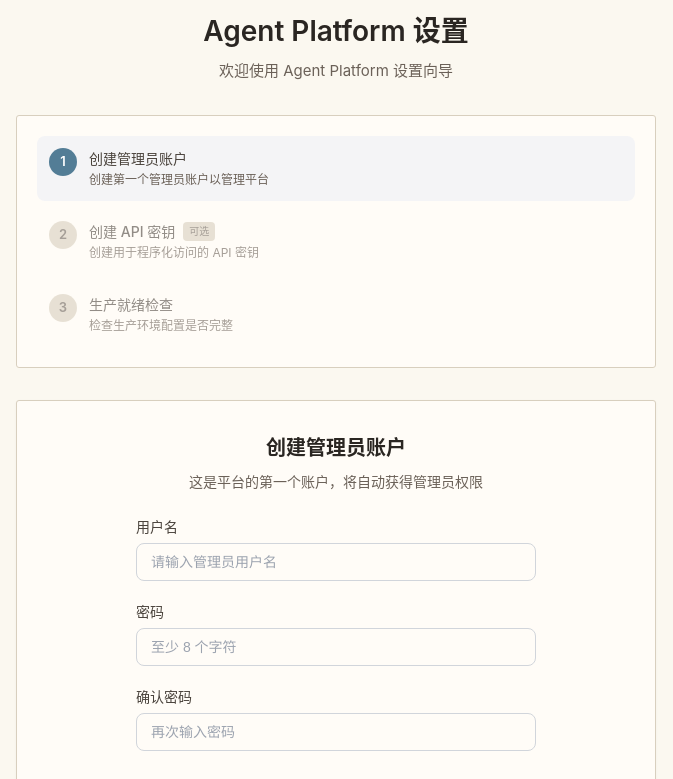
Scenario: ProductionSetupChecklist › setup flow continues after admin creation (setupInProgress prevents unmount)
Type "admin" into the field with test id "admin-username-input" at (336,562), box left=136, top=542, right=536, bottom=580
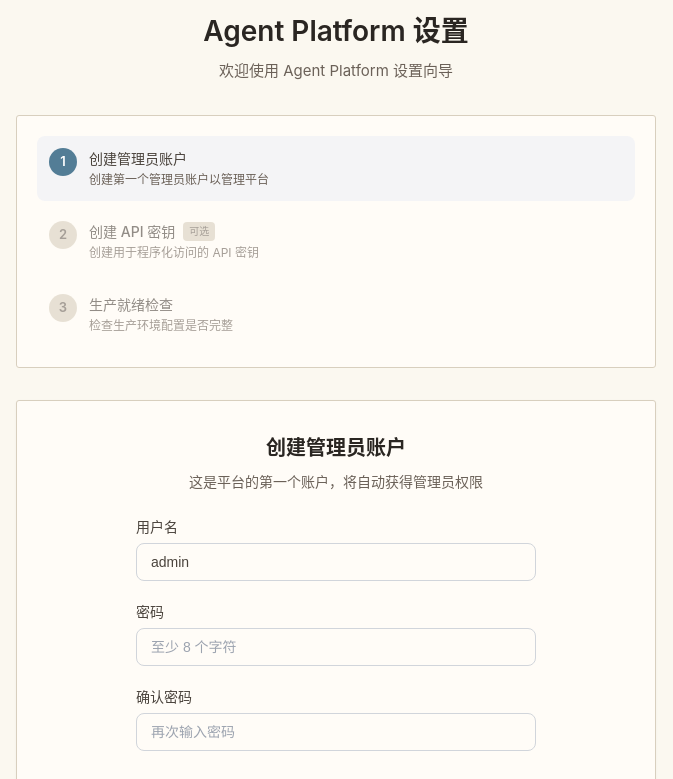
Type "password123" into the password field with test id "admin-password-input" at (336,646), box left=136, top=628, right=536, bottom=666
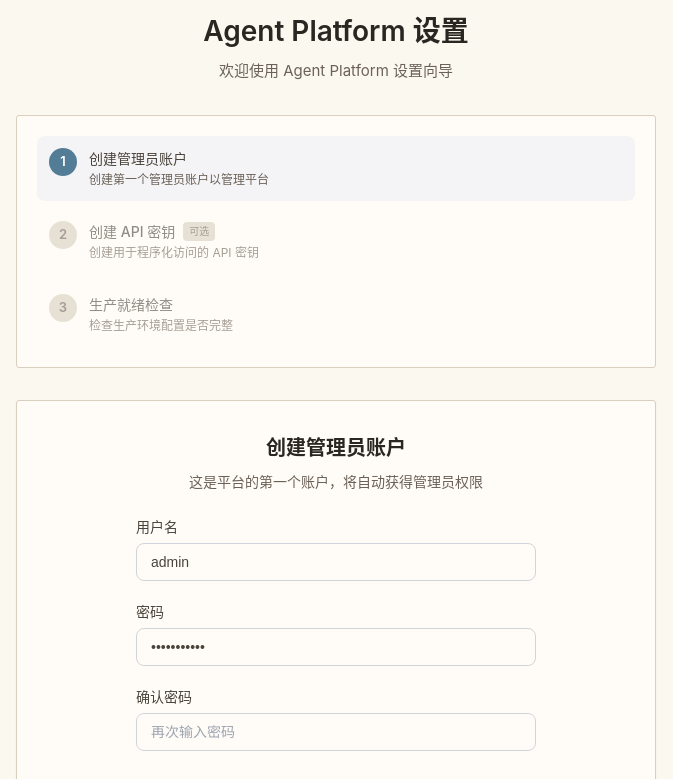
Type "password123" into the password field with test id "admin-confirm-password-input" at (336,732), box left=136, top=712, right=536, bottom=750
(page scrolled)
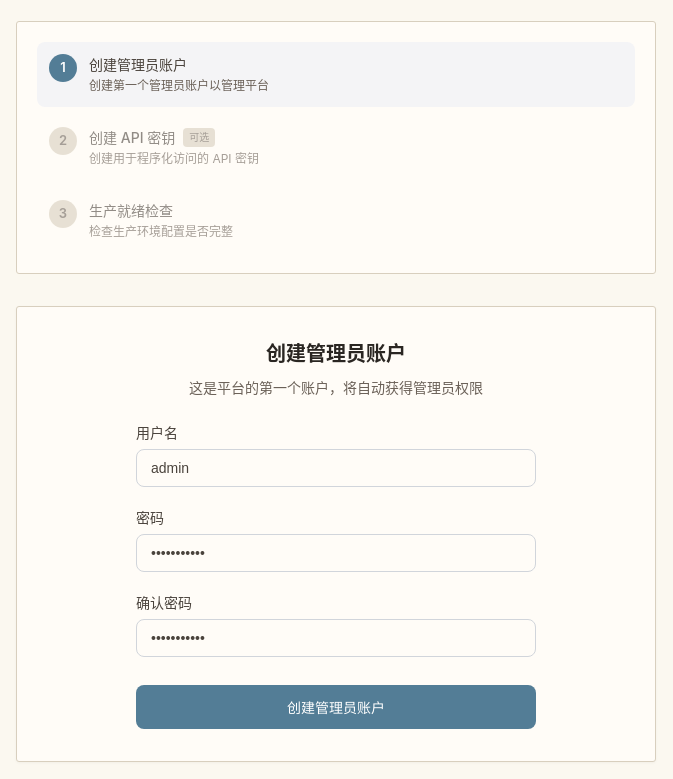
Click the button with test id "admin-create-submit" at (336,706), box left=136, top=684, right=536, bottom=728
(page scrolled)
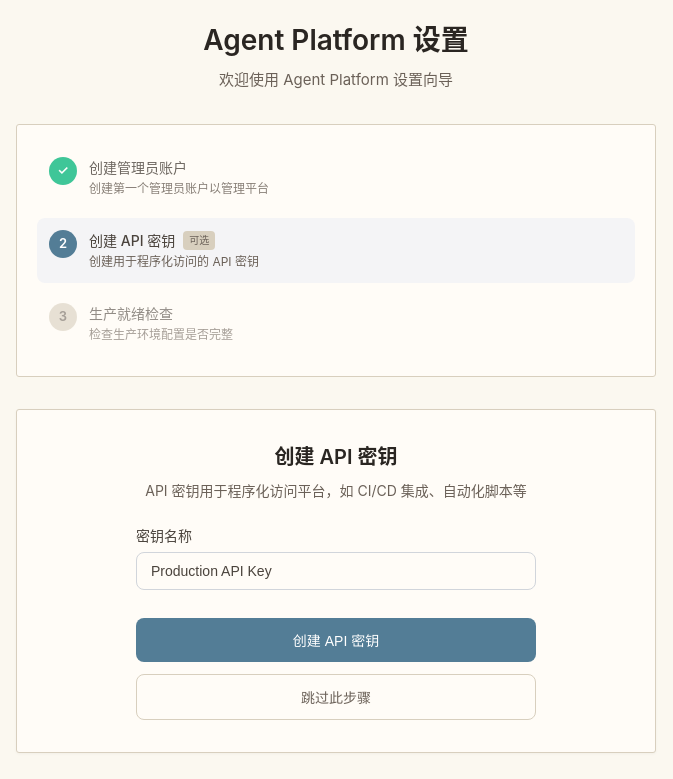
Result: the heading "创建 API 密钥" is shown at left=274, top=445, right=398, bottom=469
Result: the button with test id "skip-api-key-btn" is shown at left=136, top=674, right=536, bottom=720
